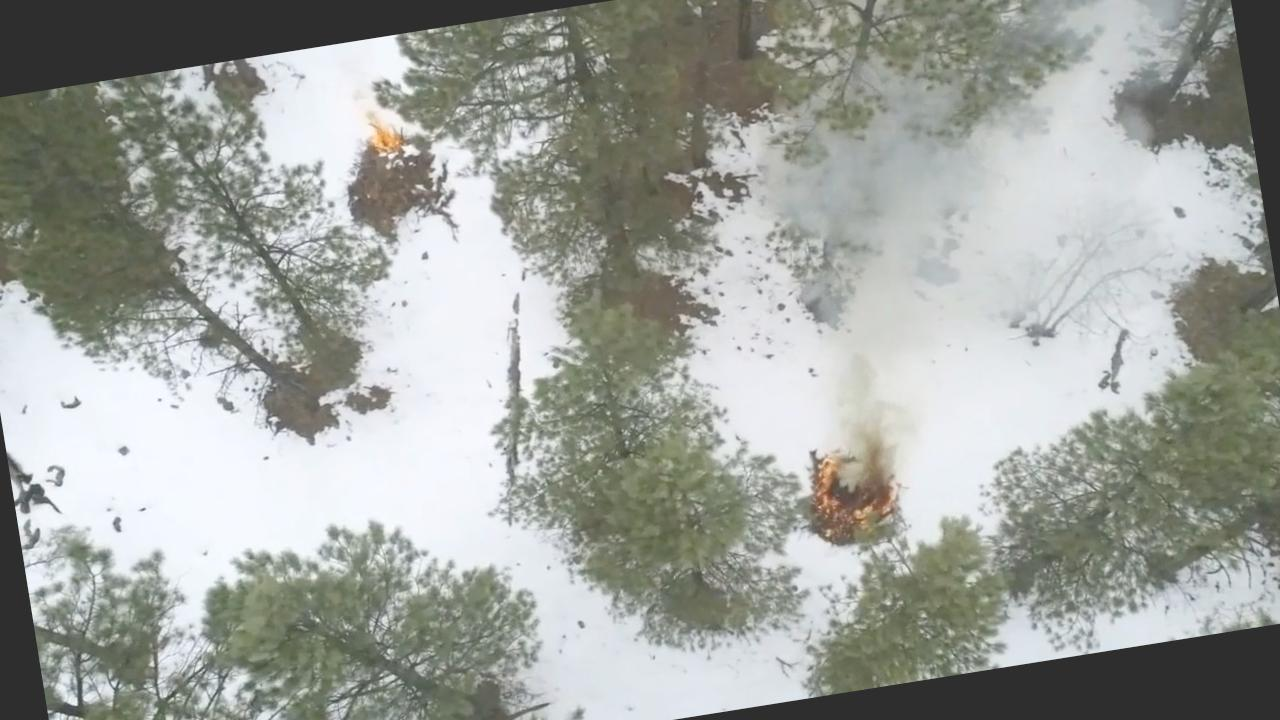fire: (798, 430, 908, 545), (360, 104, 404, 159)
smoke: (770, 102, 979, 310)
